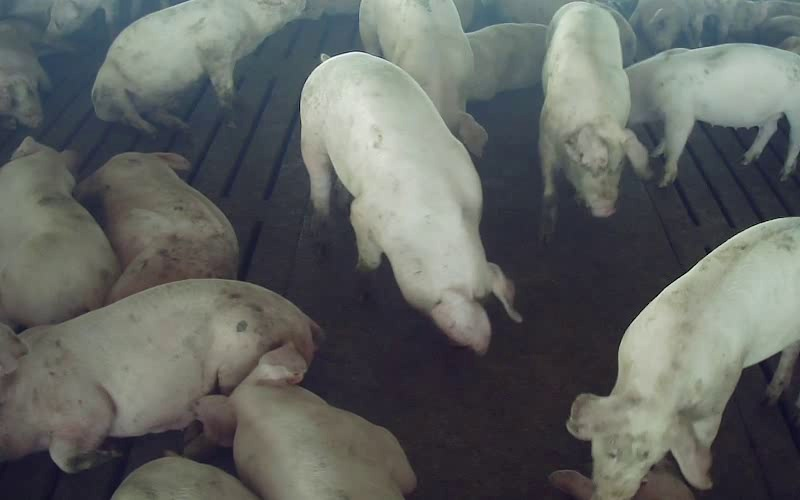pig: (567, 217, 799, 499), (0, 279, 319, 471), (195, 344, 415, 499), (626, 43, 799, 185), (76, 152, 238, 302), (0, 137, 119, 327), (359, 0, 486, 156)
